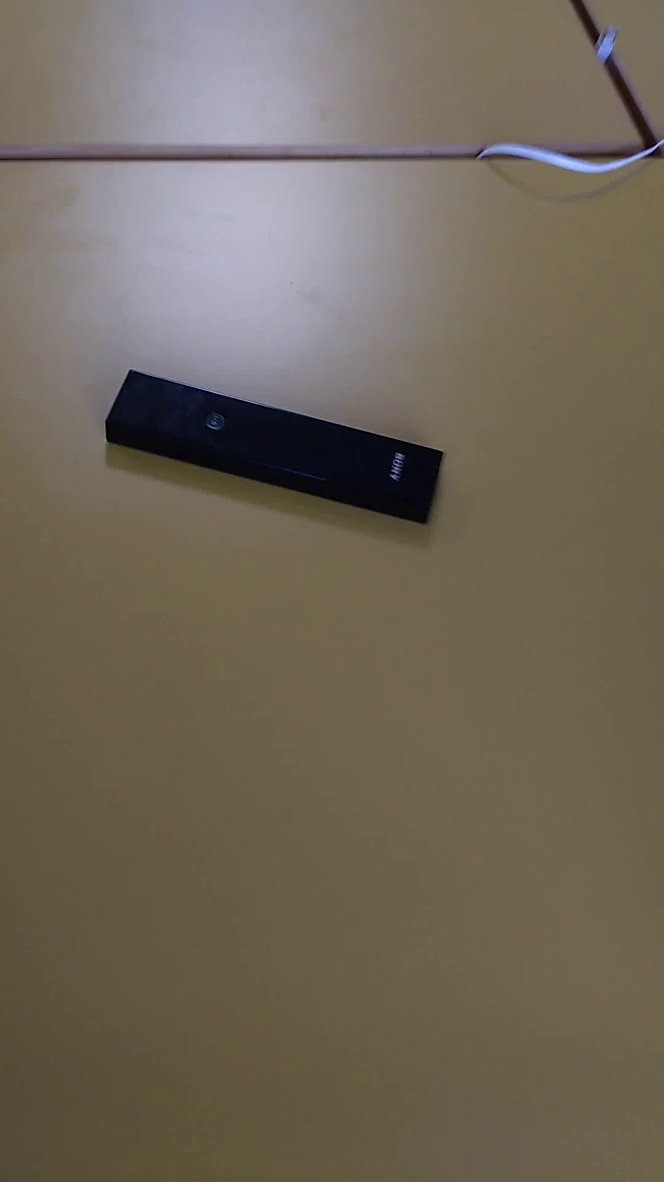remote: (87, 350, 482, 557)
